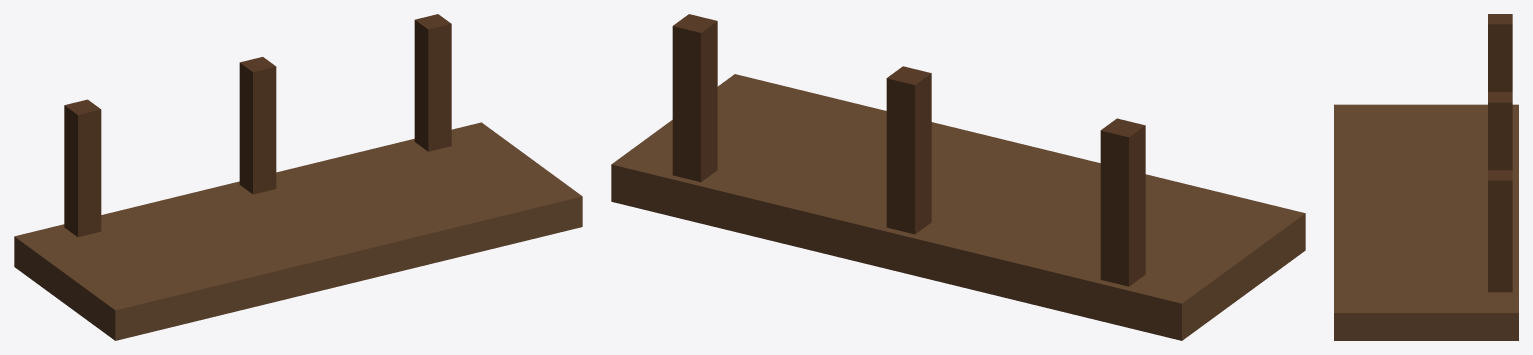
File: HarborDock.glb
3 views of the same model, side by side, from view 1: azimuth 30°, elevation 25°; view 2: azimuth 150°, elevation 25°; view 3: azimuth 270°, elevation 25° (orthographic). The views are drawn at different scales.
Size of the model in its own units: 8 by 2.5 by 3.
